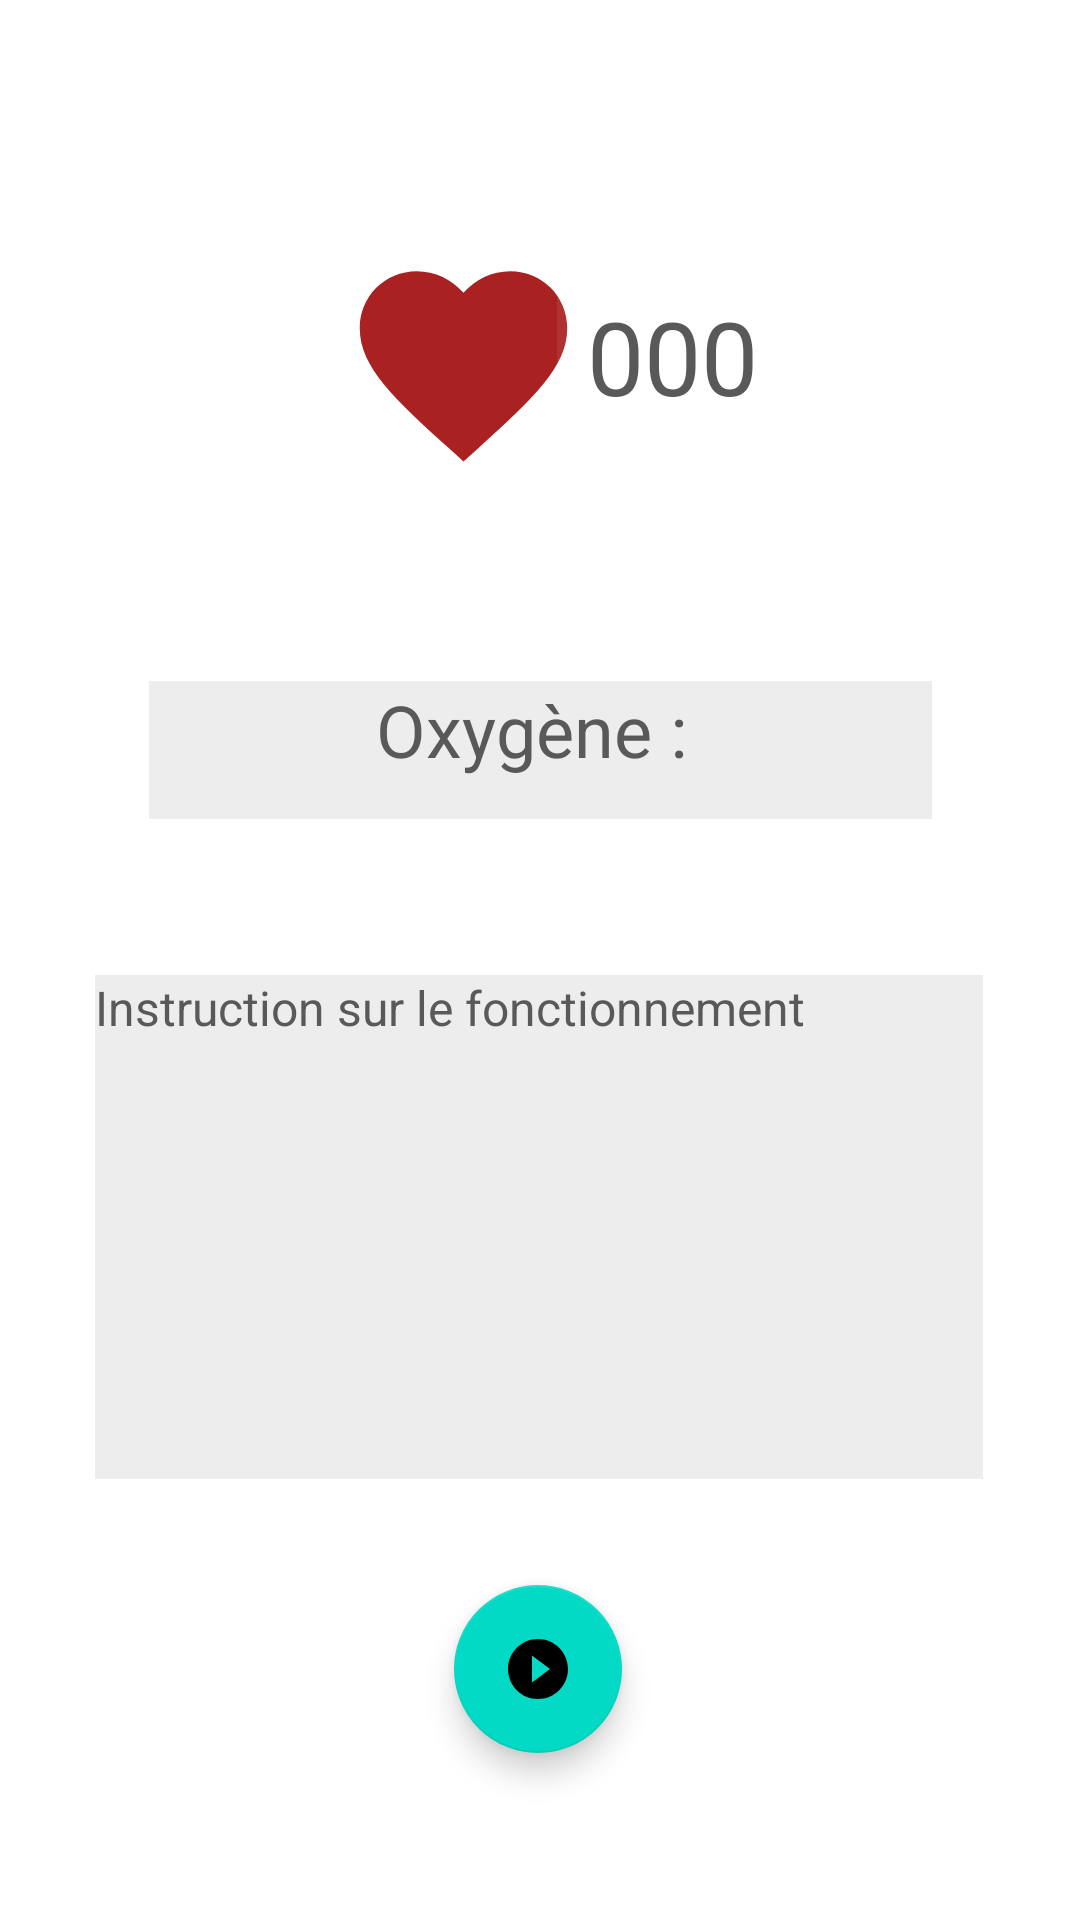

Named icons in this screenshot (1080px x 1920px) and their bounding boxes, (x1,y1,x2,y2):
coeur: (359,271,568,462)
commencer: (454,1585,622,1753)
